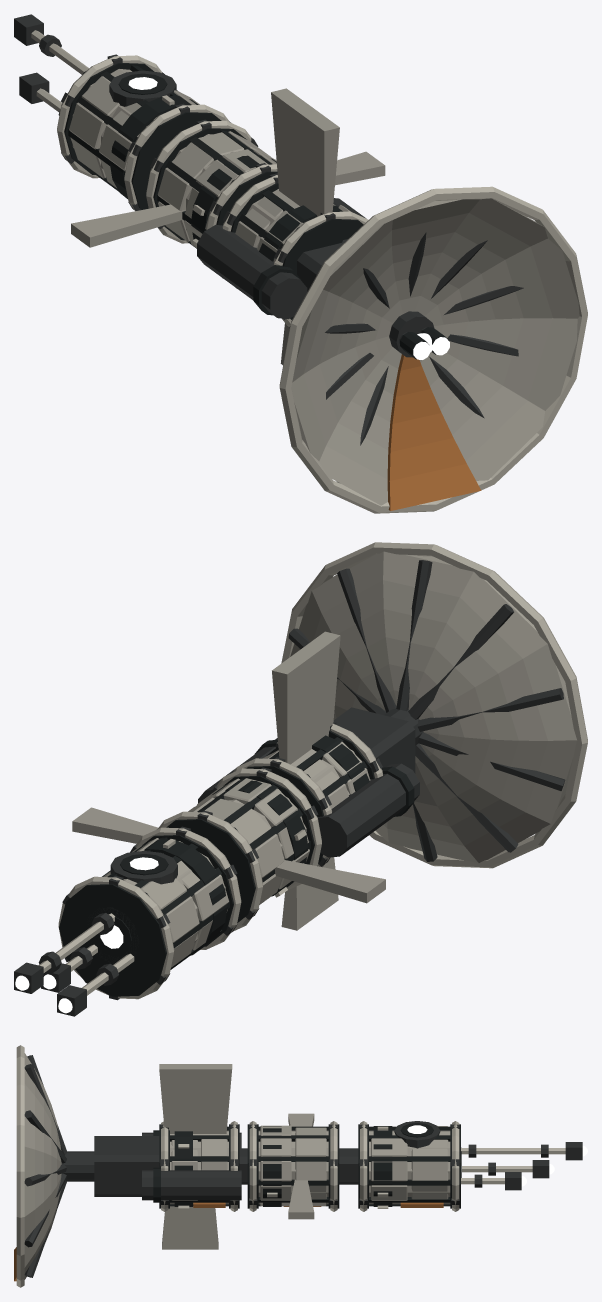
3 renders of one model, top to bottom at view 1: azimuth 30°, elevation 25°; view 2: azimuth 150°, elevation 25°; view 3: azimuth 270°, elevation 25°, orthographic. The views are drawn at different scales.
Visible parts, largest first — view 1: RIMWARD_HULL, RIMWARD_EMISSIVE; view 2: RIMWARD_HULL, RIMWARD_EMISSIVE; view 3: RIMWARD_HULL, RIMWARD_EMISSIVE.
Boxes of the visible parts, <box> form: RIMWARD_HULL: <box>14,14,587,513</box>; RIMWARD_EMISSIVE: <box>128,77,449,359</box>; RIMWARD_HULL: <box>14,542,587,1016</box>; RIMWARD_EMISSIVE: <box>15,857,158,1013</box>; RIMWARD_HULL: <box>14,1045,582,1287</box>; RIMWARD_EMISSIVE: <box>407,1125,587,1186</box>.
Size of the model in its own units: 3.16 by 3.16 by 7.47.
